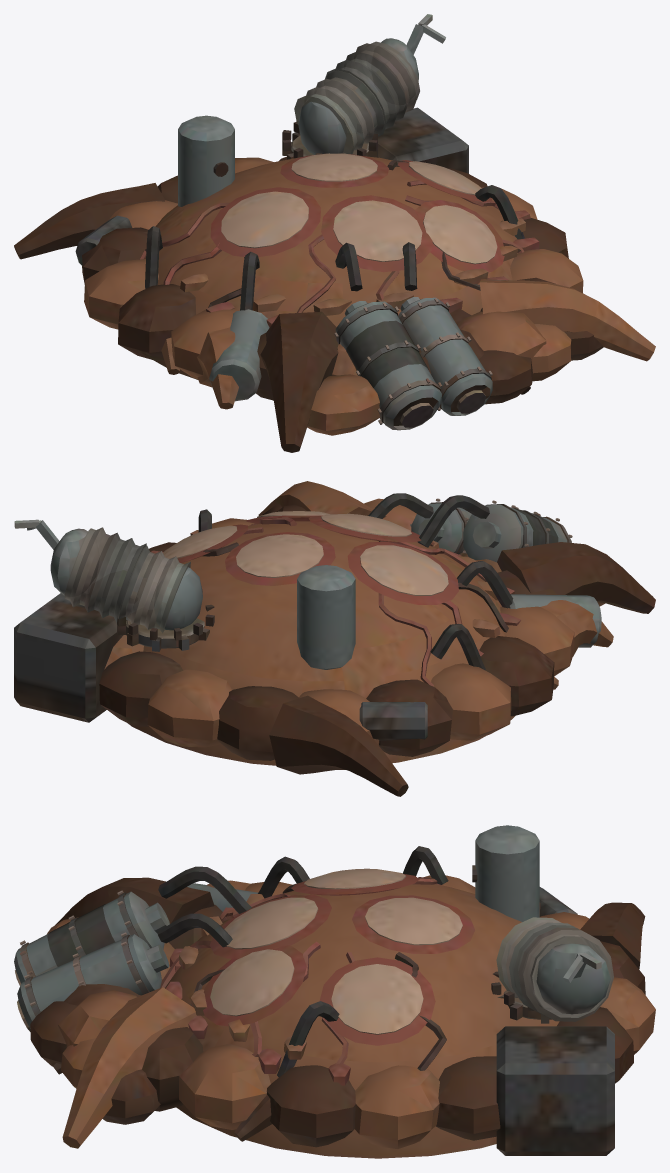
Rendered from captive-biter-spawner.glb.
3 views of the same model, one above another, from view 1: azimuth 30°, elevation 25°; view 2: azimuth 150°, elevation 25°; view 3: azimuth 270°, elevation 25° (orthographic). The views are drawn at different scales.
Parts seen in each view (by area): view 1: body, anim_pads_captive, anim_bellows_captive; view 2: body, anim_pads_captive, anim_bellows_captive; view 3: body, anim_pads_captive, anim_bellows_captive.
Part boxes in pixels (x1,y1,x2,y2): body: (14, 70, 655, 452); anim_pads_captive: (221, 153, 497, 264); anim_bellows_captive: (325, 14, 445, 136); body: (14, 481, 655, 796); anim_pads_captive: (163, 511, 448, 595); anim_bellows_captive: (14, 519, 146, 623); body: (14, 825, 655, 1158); anim_pads_captive: (210, 868, 462, 1034); anim_bellows_captive: (509, 922, 613, 1021).
Bounding box in the file's own units: 5.27 × 2.04 × 5.96.
Materials: 3 (3 with a texture image).
